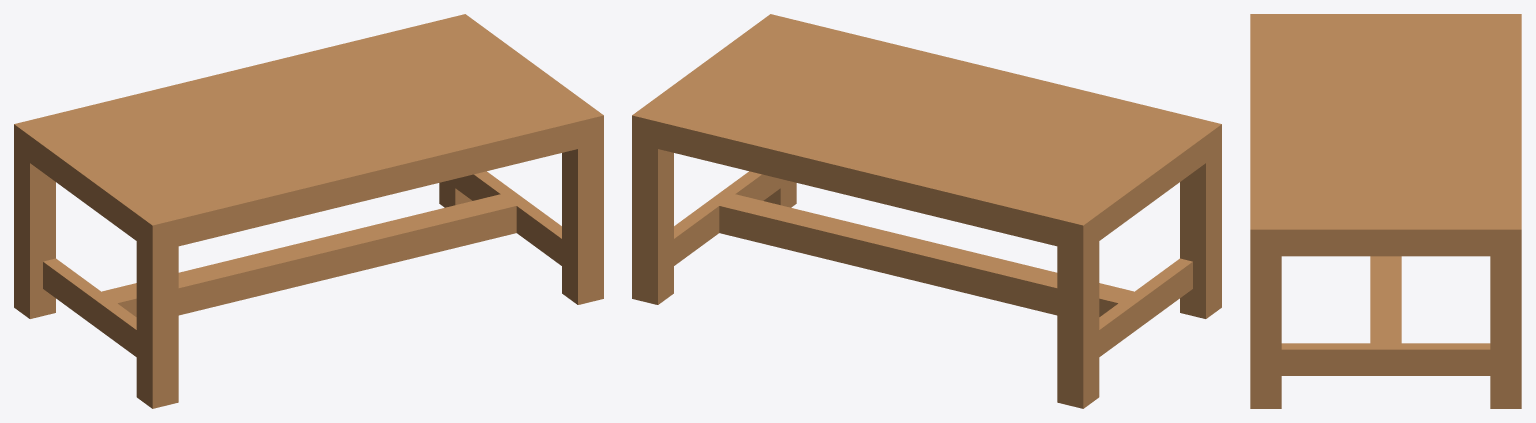
The model's file is kitTable.glb.
The picture shows the model from 3 angles, left to right: view 1: azimuth 30°, elevation 25°; view 2: azimuth 150°, elevation 25°; view 3: azimuth 270°, elevation 25°; orthographic projection. The views are drawn at different scales.
Parts seen in each view (by area): view 1: kitTable_wood; view 2: kitTable_wood; view 3: kitTable_wood.
Part boxes in pixels (x1,y1,x2,y2): kitTable_wood: (14, 14, 603, 408); kitTable_wood: (632, 14, 1221, 408); kitTable_wood: (1250, 14, 1521, 408).
Bounding box in the file's own units: 1.68 × 0.6535 × 0.8947.
